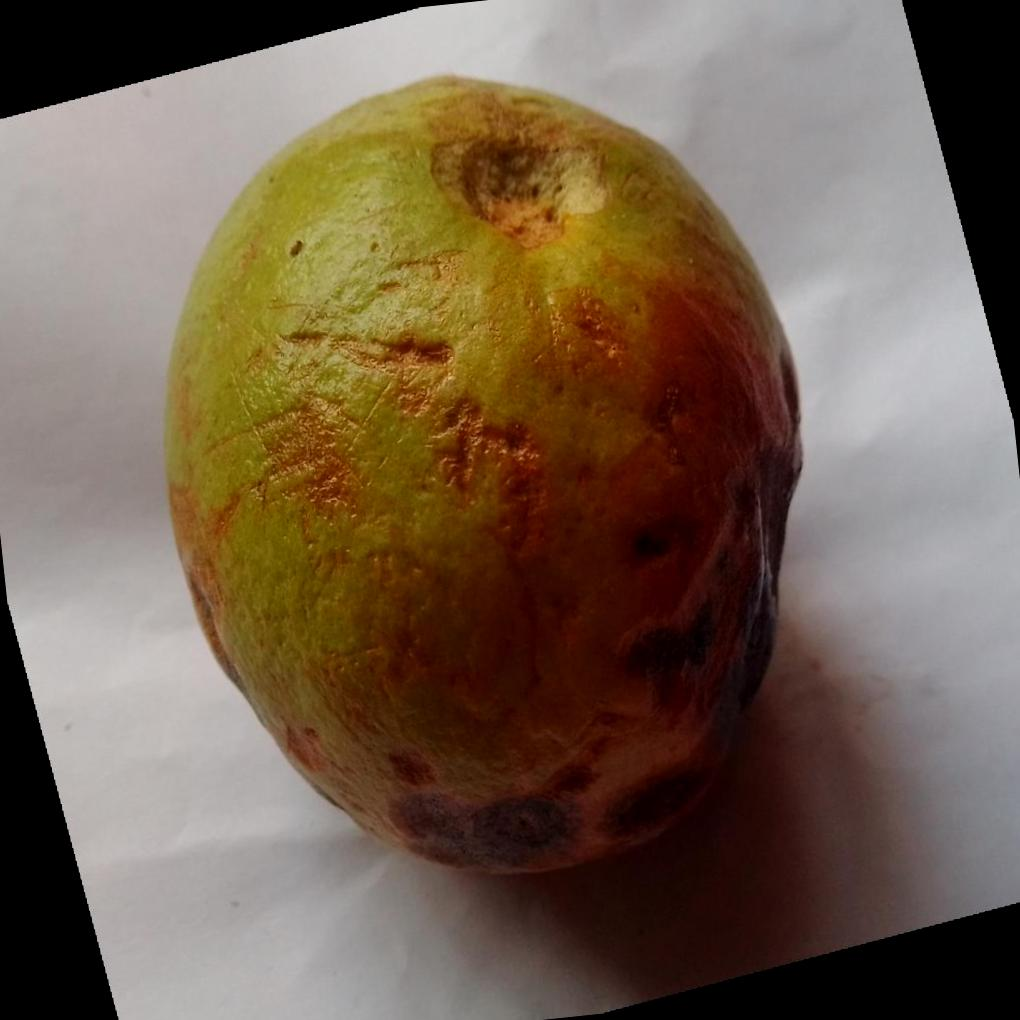FreshOrange: (160, 76, 805, 883)
